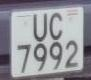2: (63, 37, 81, 72)
7: (16, 40, 34, 77)
9: (47, 39, 66, 73), (31, 41, 50, 75)
C: (48, 11, 65, 44)
U: (31, 13, 49, 46)
